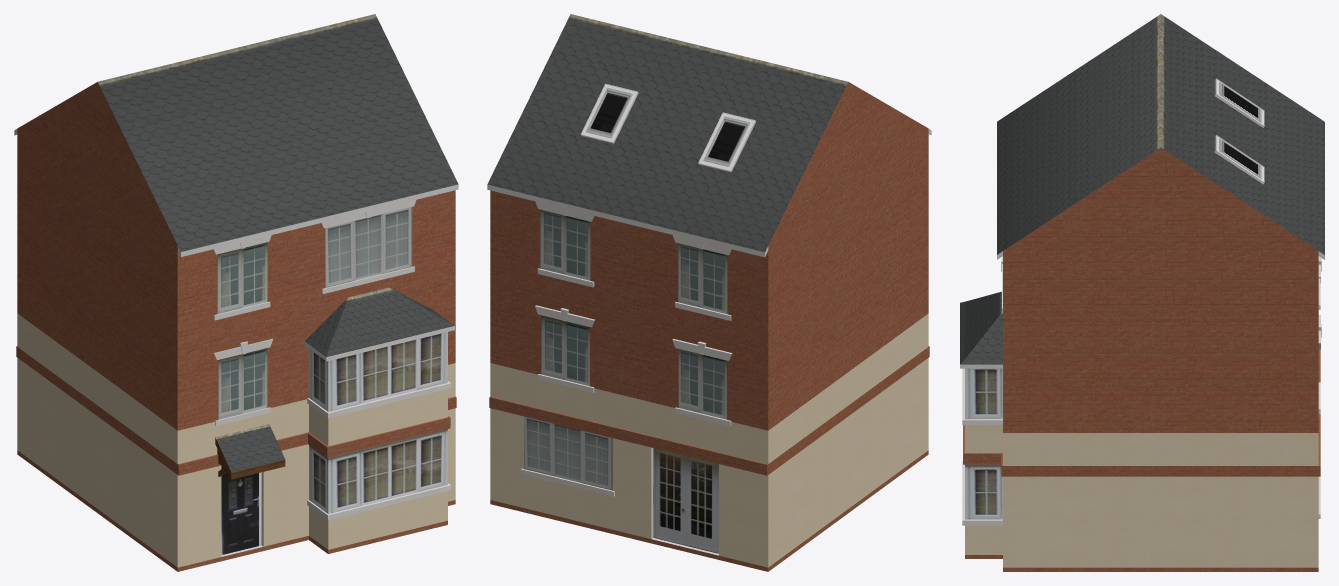
The model's file is modernterrace3story1c.FBX.
3 renders of one model, left to right at view 1: azimuth 30°, elevation 25°; view 2: azimuth 150°, elevation 25°; view 3: azimuth 270°, elevation 25°, orthographic.
Parts seen in each view (by area): view 1: Box001; view 2: Box001; view 3: Box001.
Boxes of the visible parts, bbox=[...] form: Box001: bbox=[14, 14, 458, 571]; Box001: bbox=[487, 14, 931, 571]; Box001: bbox=[960, 14, 1324, 571].
Size of the model in its own units: 800 by 1188 by 925.
